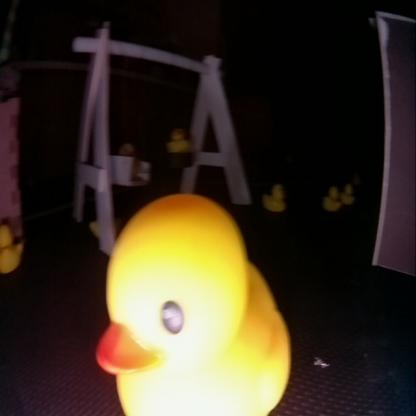Duckie: (96, 194, 288, 413), (0, 224, 23, 271), (262, 184, 285, 211), (167, 128, 191, 152), (322, 187, 339, 211), (341, 184, 354, 203)
